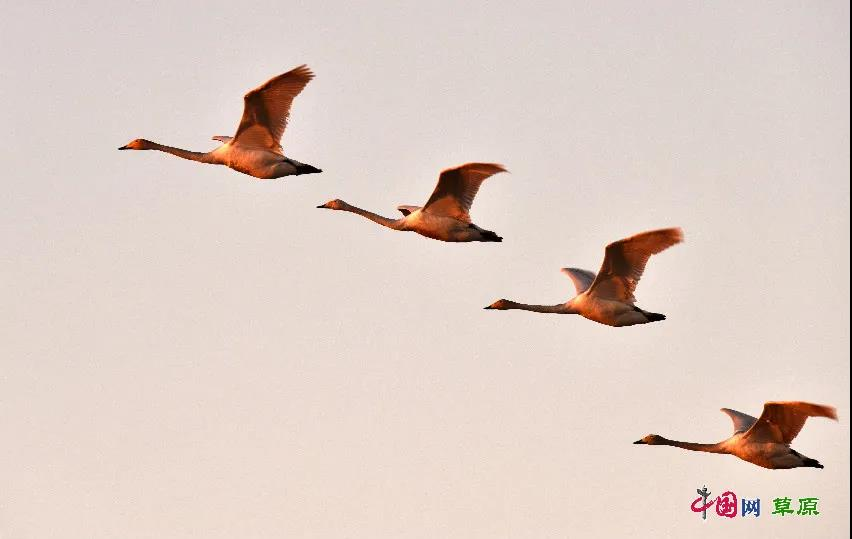bird: (117, 58, 325, 184), (484, 225, 686, 329), (315, 161, 513, 249), (633, 397, 841, 471)
